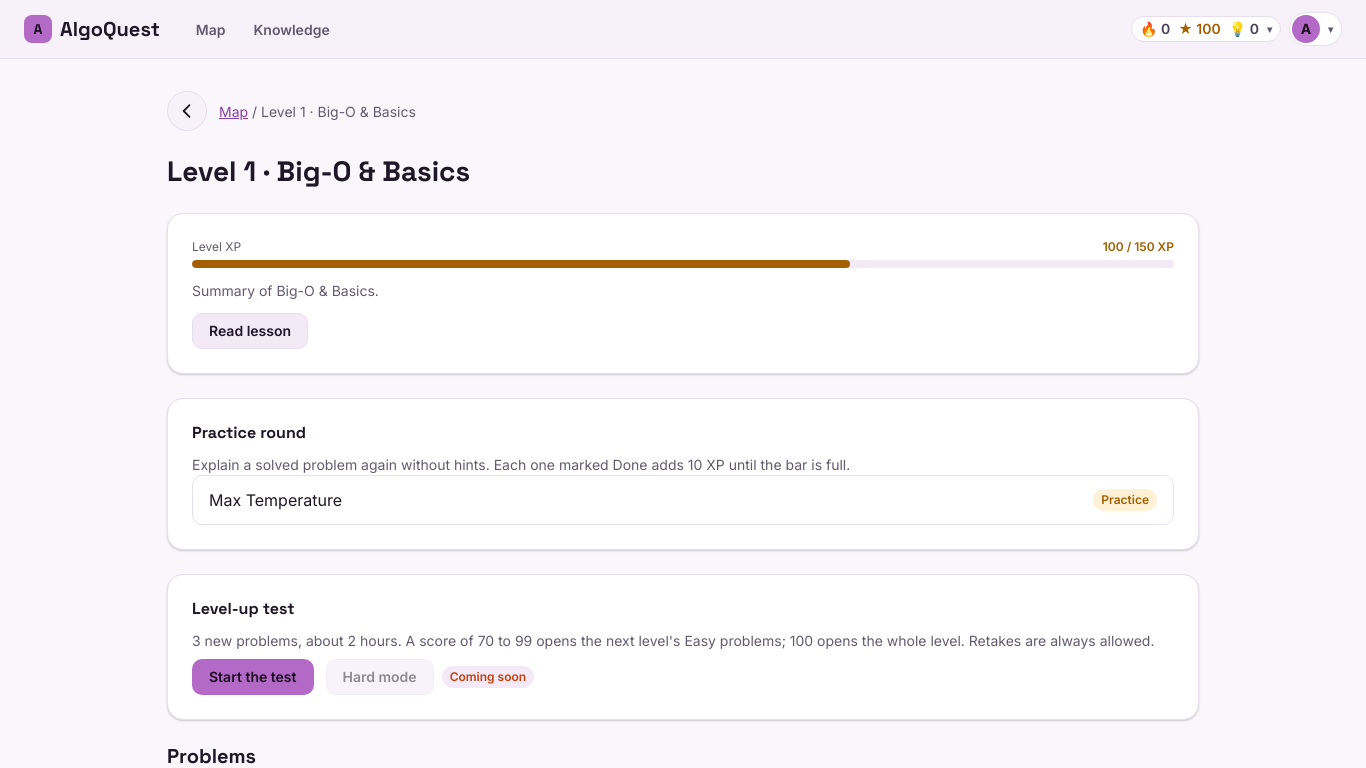
level-up test › can be started from the level page when the bar is full
What coordinates should you click on to do the following:
click the button "Start the test"
I would click on:
 (253, 677)
Its box is [192,659,314,695].
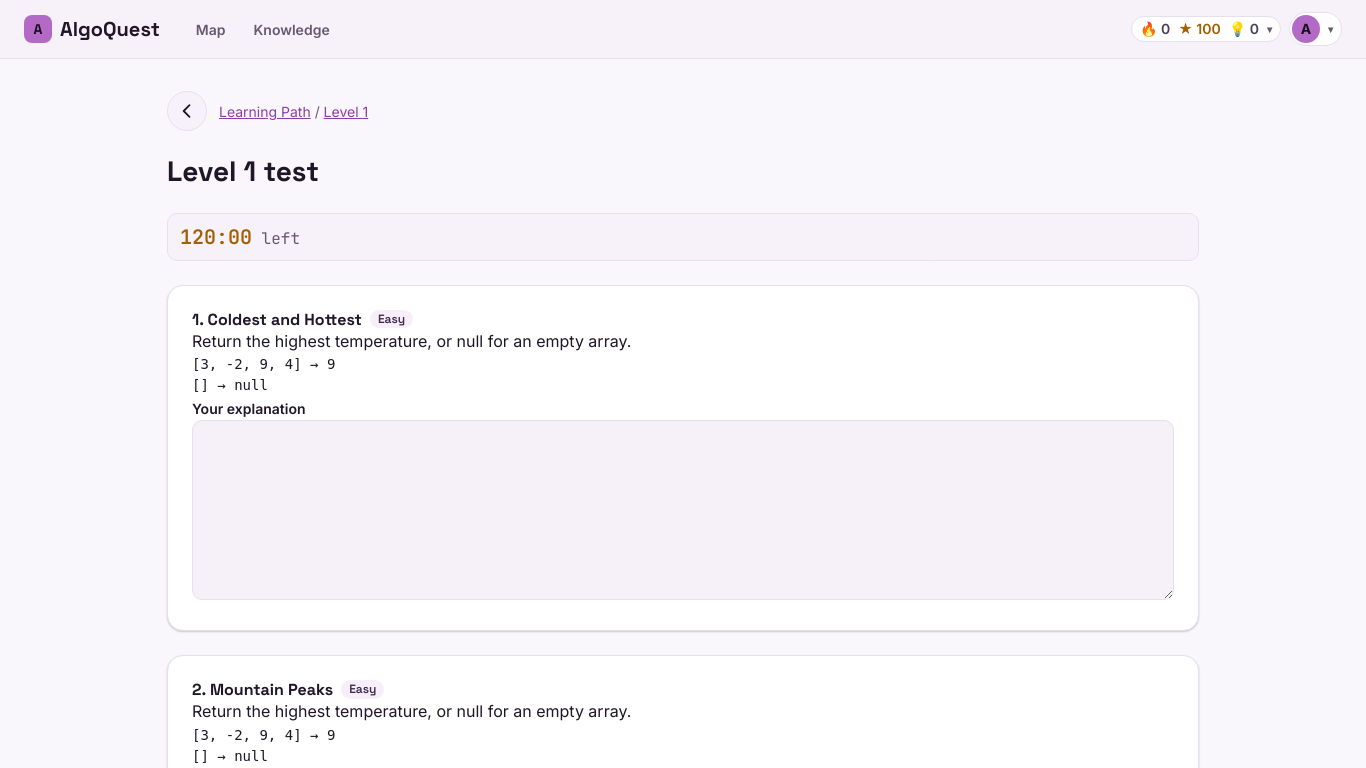
Now the heading "Level 1 test" is shown, box [167,153,319,189]
Now the element titled "Time left" reads "120:00 left", box [167,213,1199,261]
